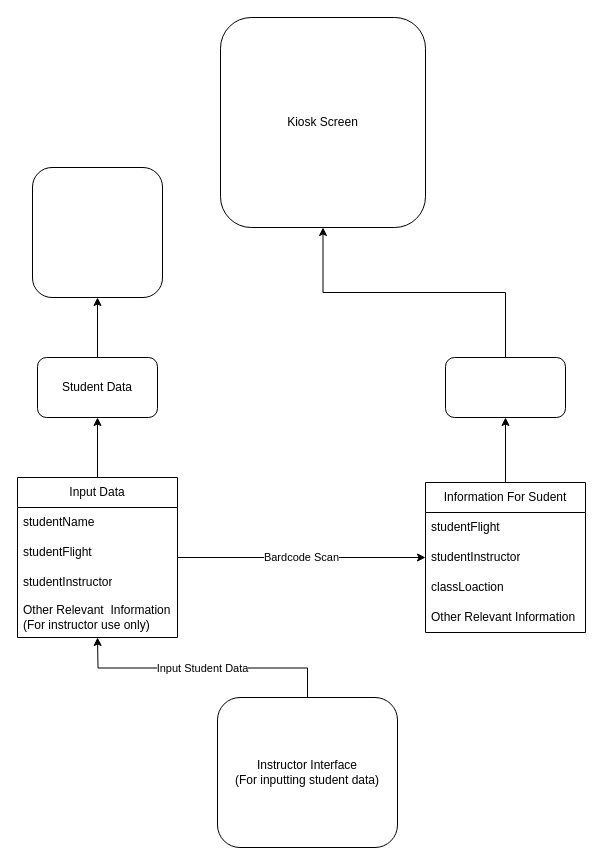
This 603x865 diagram has some shape labels left out. The centre of each missing label's shape, as x and y in pixels:
Data Visualizaton (For instructor eyes): the point at 97,232
Student Interface: the point at 505,387
